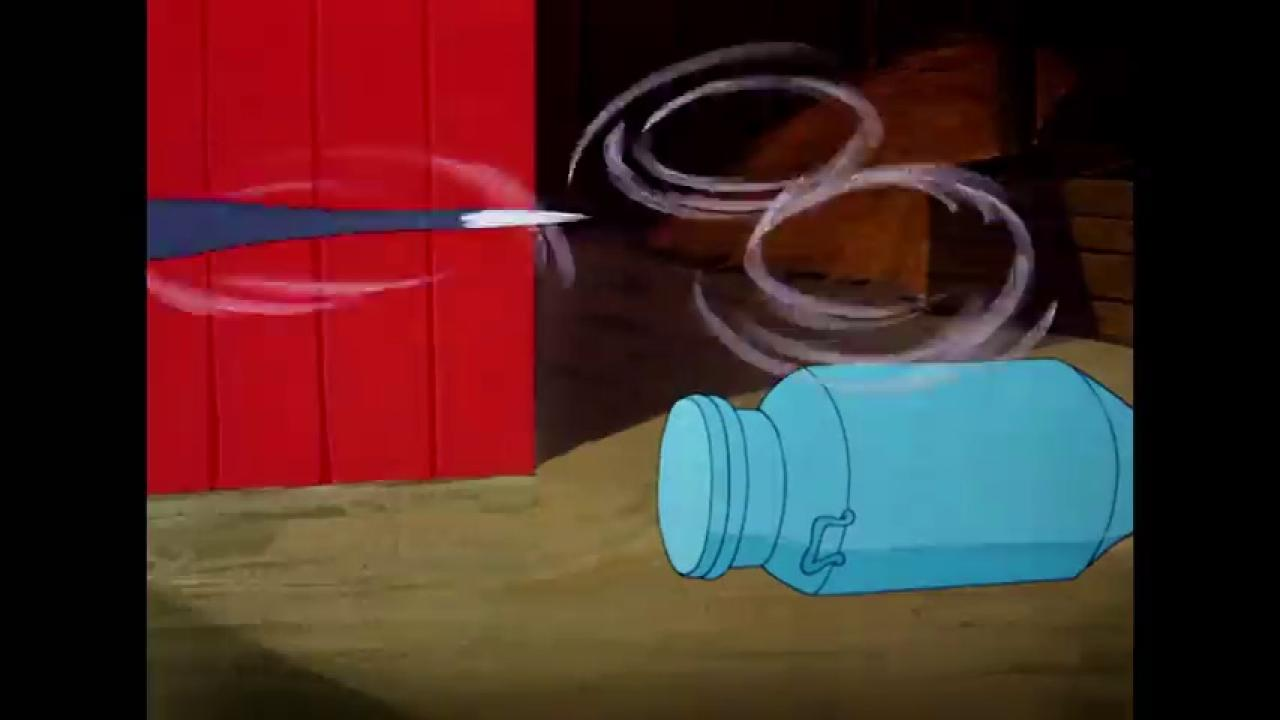Tom: (146, 196, 601, 262)
